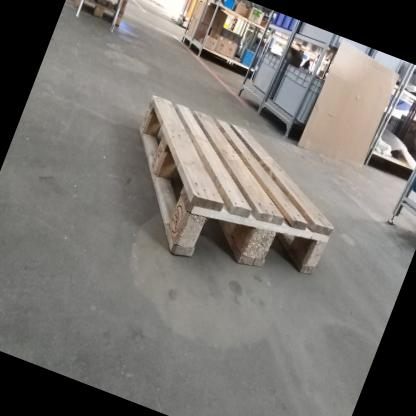BoxFace: (135, 90, 338, 280)
